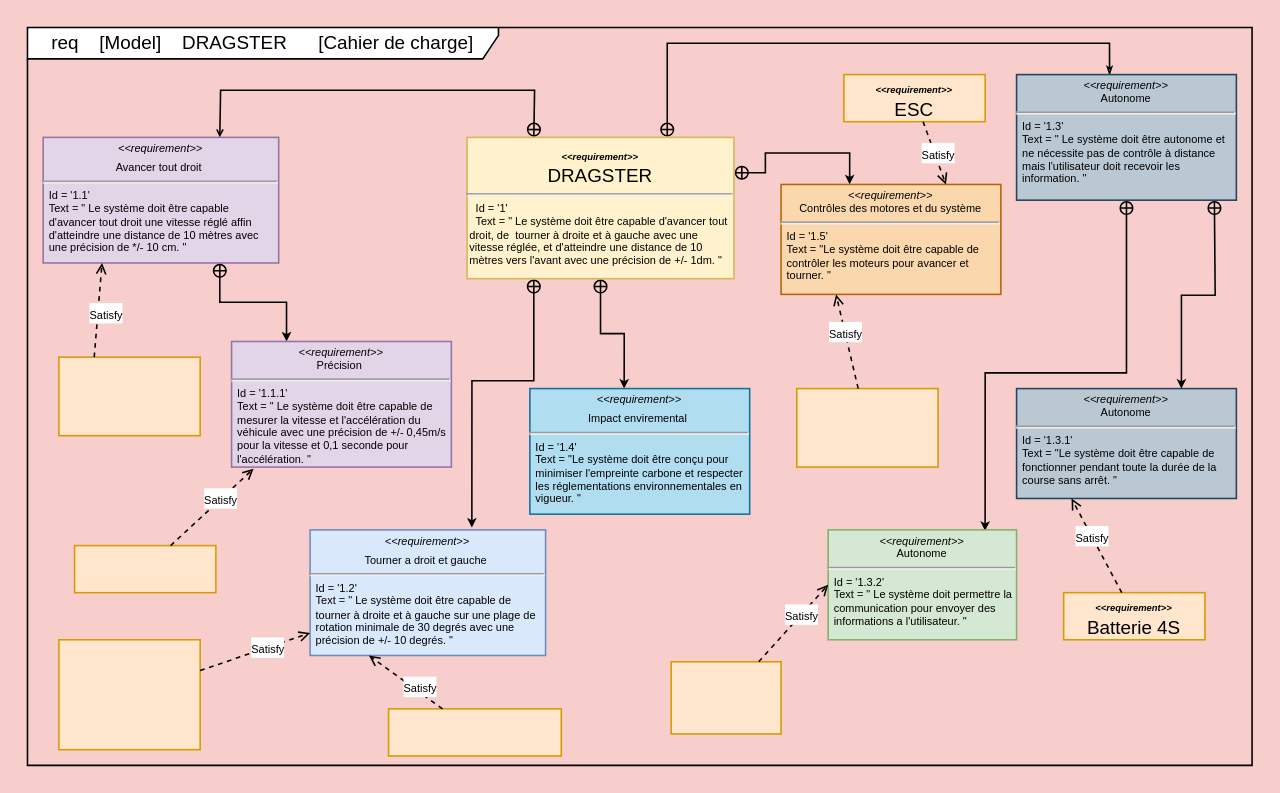
Image size: 1280x793. Some labels were removed from this diagram. The centre of each missing label's shape, as x and y in pixels:
<<requirement>> accéléromètre: [144,568]
<<requirement>> Carte Nucleo STM32: [866,427]
<<requirement>> Dynamixel XL-320: [474,731]
<<requirement>> encodeur rotatif magnétique HEDS-5500: [128,694]
<<requirement>> Module ESP8266: [725,697]
<<requirement>> Moteur brushless 50A: [128,396]
